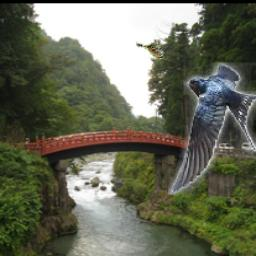Sparrow: (137, 39, 166, 59)
Swallow: (168, 63, 256, 196)
